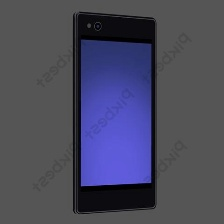phone: (69, 9, 159, 216)
